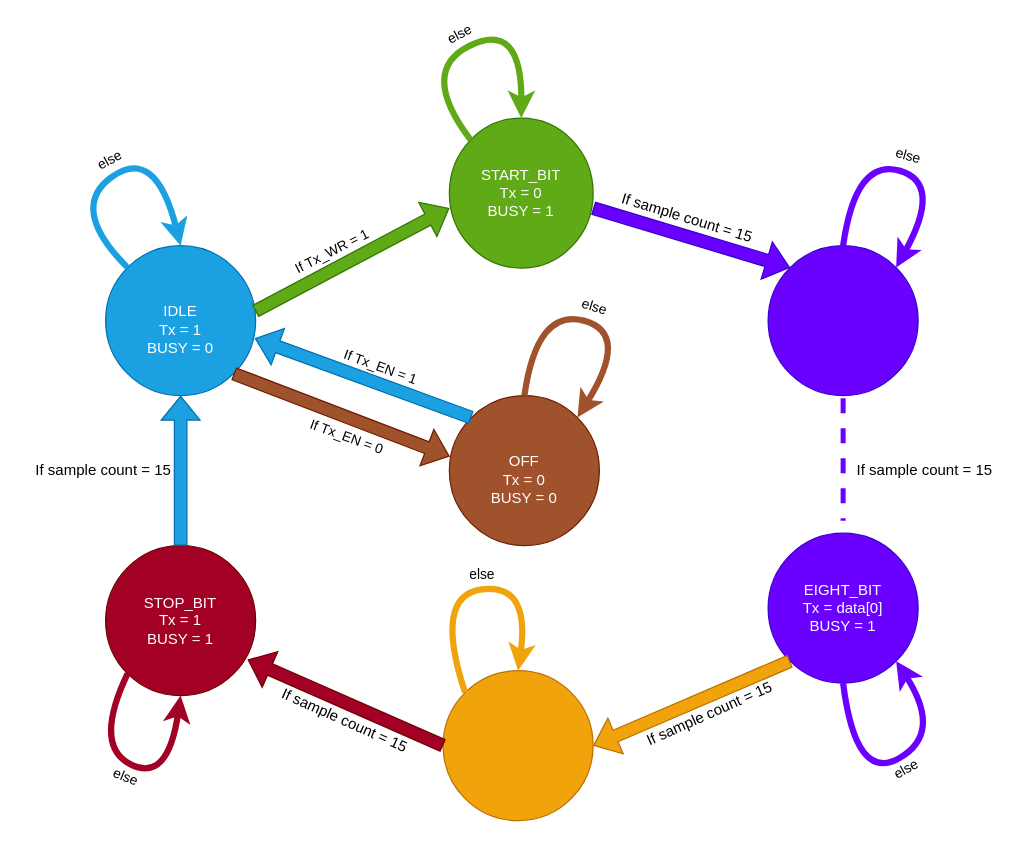
Some shapes in this 1026 by 843 pixel diagram are drawn without their labels. The box of each missing label's shape, as (x1, y1, x2, y2) in pixels:
FIRST_BIT Tx = data[7] BUSY = 1: (767, 244, 918, 396)
PARITY_BIT Tx = parity bit BUSY = 1: (442, 669, 593, 821)
